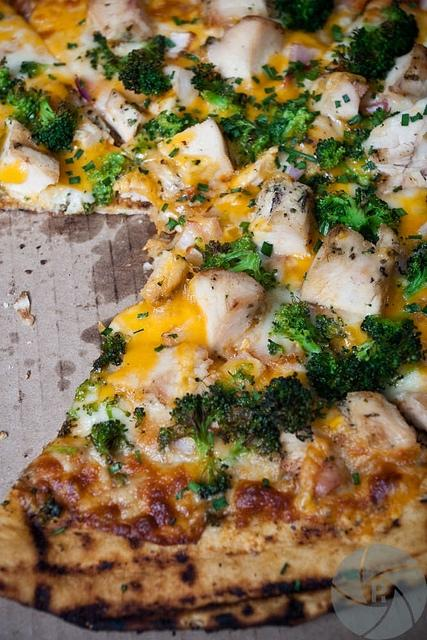broccoli: (313, 183, 409, 246), (156, 379, 238, 452), (216, 390, 285, 462), (258, 372, 326, 442), (200, 236, 280, 290), (269, 301, 347, 354), (356, 312, 422, 370), (362, 1, 420, 61), (118, 34, 170, 96), (29, 96, 78, 154), (91, 394, 136, 456), (350, 27, 394, 82), (305, 351, 353, 400), (266, 0, 335, 33), (7, 80, 52, 128), (87, 152, 126, 206), (313, 137, 357, 175), (401, 241, 427, 302), (93, 328, 126, 370), (142, 110, 184, 141), (199, 90, 249, 116), (279, 106, 315, 140), (220, 112, 256, 138), (246, 133, 271, 158)
